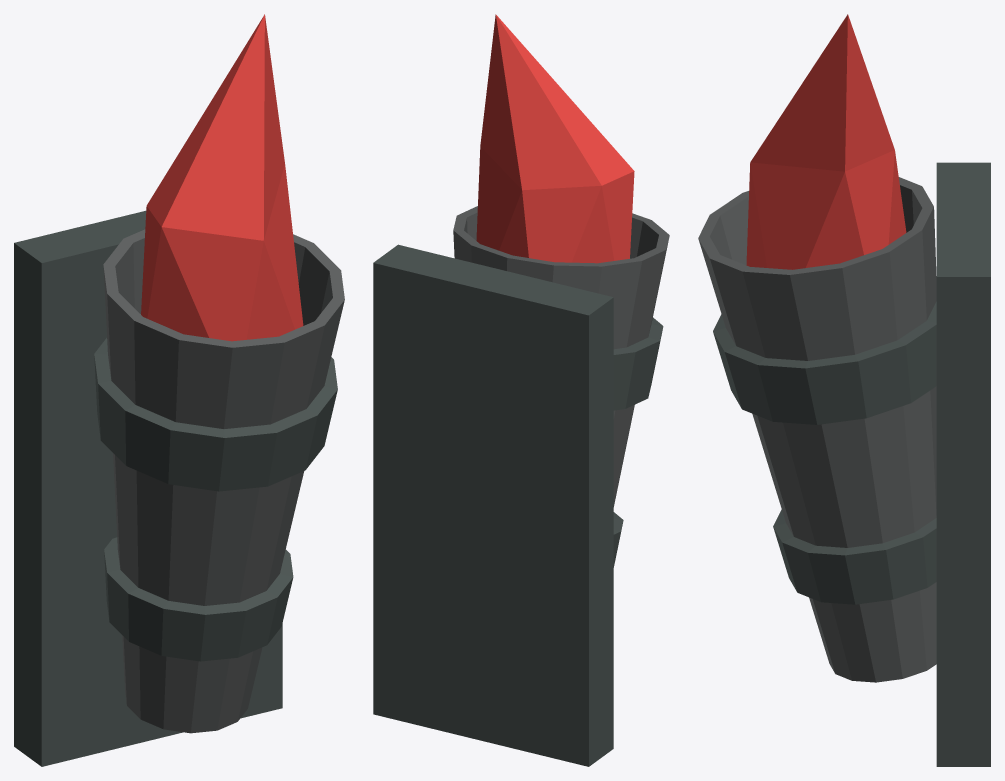
File: Torch_1_Gray.fbx
3 views of the same model, side by side, from view 1: azimuth 30°, elevation 25°; view 2: azimuth 150°, elevation 25°; view 3: azimuth 270°, elevation 25° (orthographic). The views are drawn at different scales.
Visible parts, largest first — view 1: Torch_1_Gray_Part_1, Torch_1_Gray_Part_2, Torch_1_Gray_Part_3; view 2: Torch_1_Gray_Part_1, Torch_1_Gray_Part_3, Torch_1_Gray_Part_2; view 3: Torch_1_Gray_Part_1, Torch_1_Gray_Part_2, Torch_1_Gray_Part_3.
Boxes of the visible parts, bbox=[...] form: Torch_1_Gray_Part_1: bbox=[14, 210, 337, 766]; Torch_1_Gray_Part_2: bbox=[103, 229, 344, 733]; Torch_1_Gray_Part_3: bbox=[141, 14, 303, 341]; Torch_1_Gray_Part_1: bbox=[373, 244, 663, 766]; Torch_1_Gray_Part_3: bbox=[476, 14, 634, 263]; Torch_1_Gray_Part_2: bbox=[453, 206, 669, 506]; Torch_1_Gray_Part_1: bbox=[713, 162, 990, 766]; Torch_1_Gray_Part_2: bbox=[698, 177, 936, 682]; Torch_1_Gray_Part_3: bbox=[746, 14, 906, 269].
Bounding box in the file's own units: 20 × 59.01 × 21.65.
